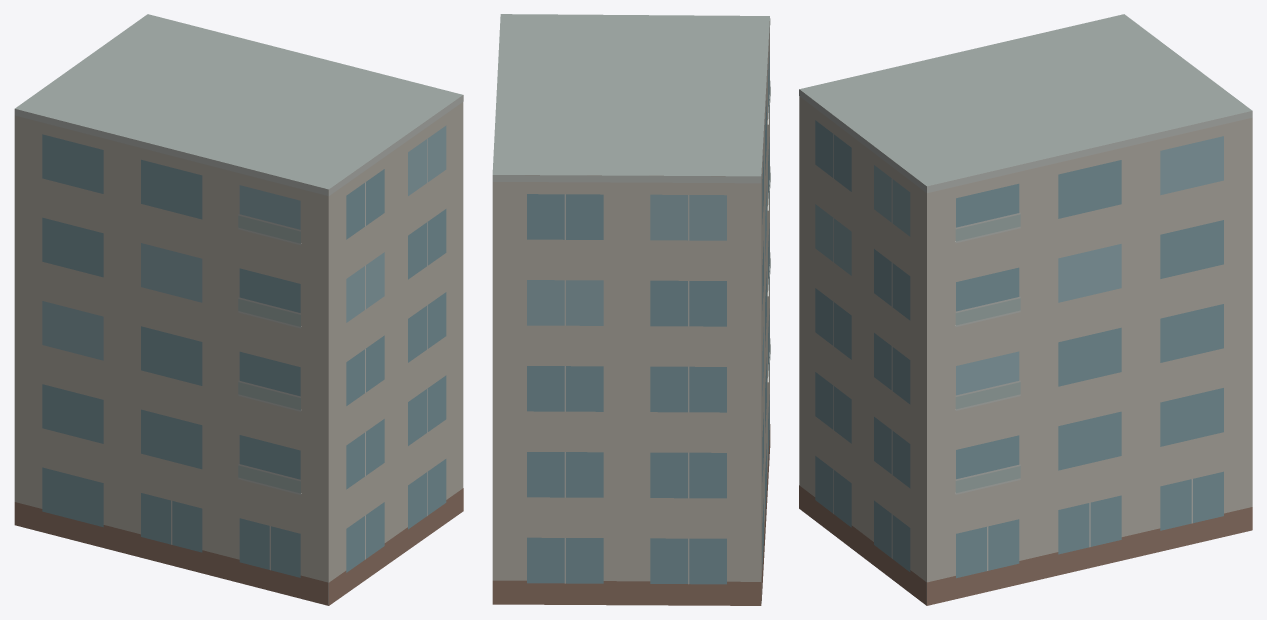
File: survey-upis-32657283.glb
3 views of the same model, side by side, from view 1: azimuth 30°, elevation 25°; view 2: azimuth 150°, elevation 25°; view 3: azimuth 270°, elevation 25° (orthographic). The views are drawn at different scales.
Parts seen in each view (by area): view 1: survey-upis-32657283.tmp; view 2: survey-upis-32657283.tmp; view 3: survey-upis-32657283.tmp.
Boxes of the visible parts, bbox=[...] form: survey-upis-32657283.tmp: bbox=[14, 14, 463, 605]; survey-upis-32657283.tmp: bbox=[492, 14, 770, 605]; survey-upis-32657283.tmp: bbox=[799, 14, 1252, 605].
Size of the model in its own units: 13.23 by 15 by 14.7.
